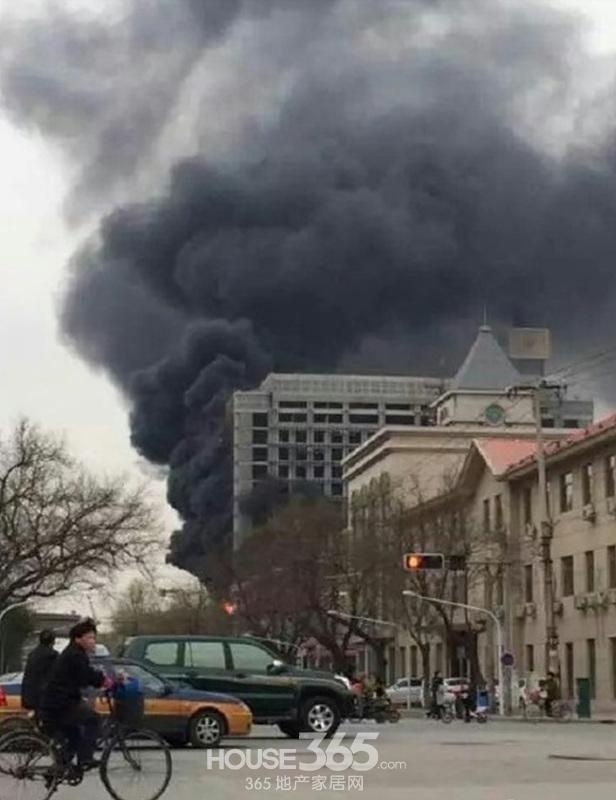fire: (401, 548, 425, 571)
